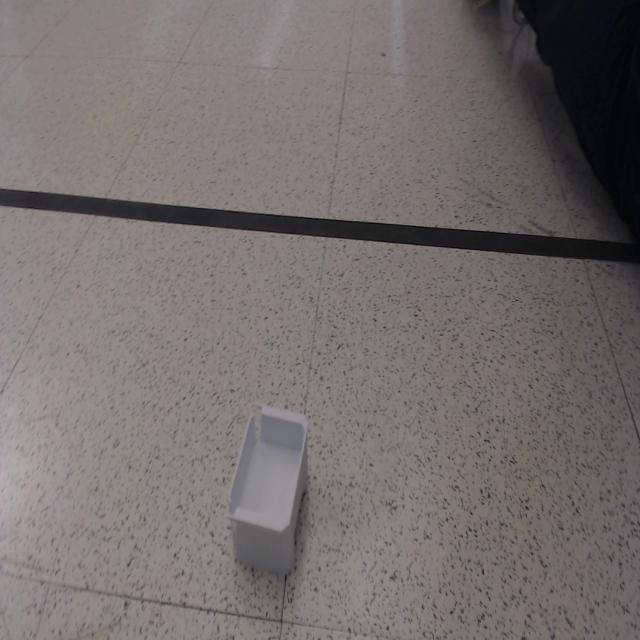wbox: (225, 400, 310, 578)
